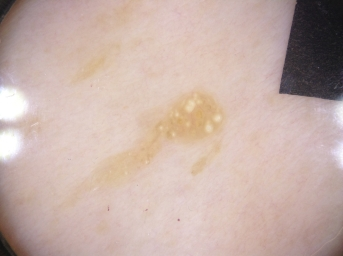seborrheic keratosis: (71, 86, 261, 208)
